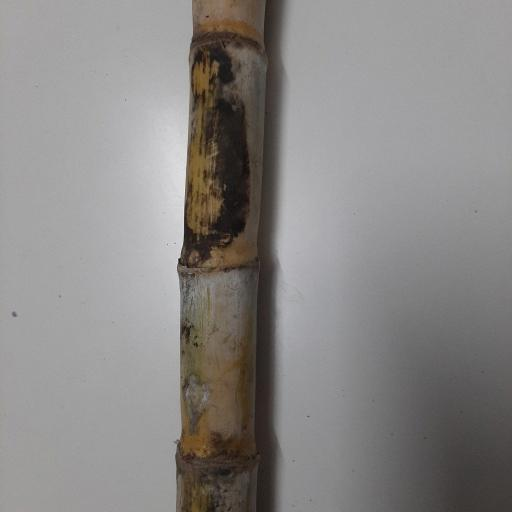Bud: (185, 250, 200, 267)
